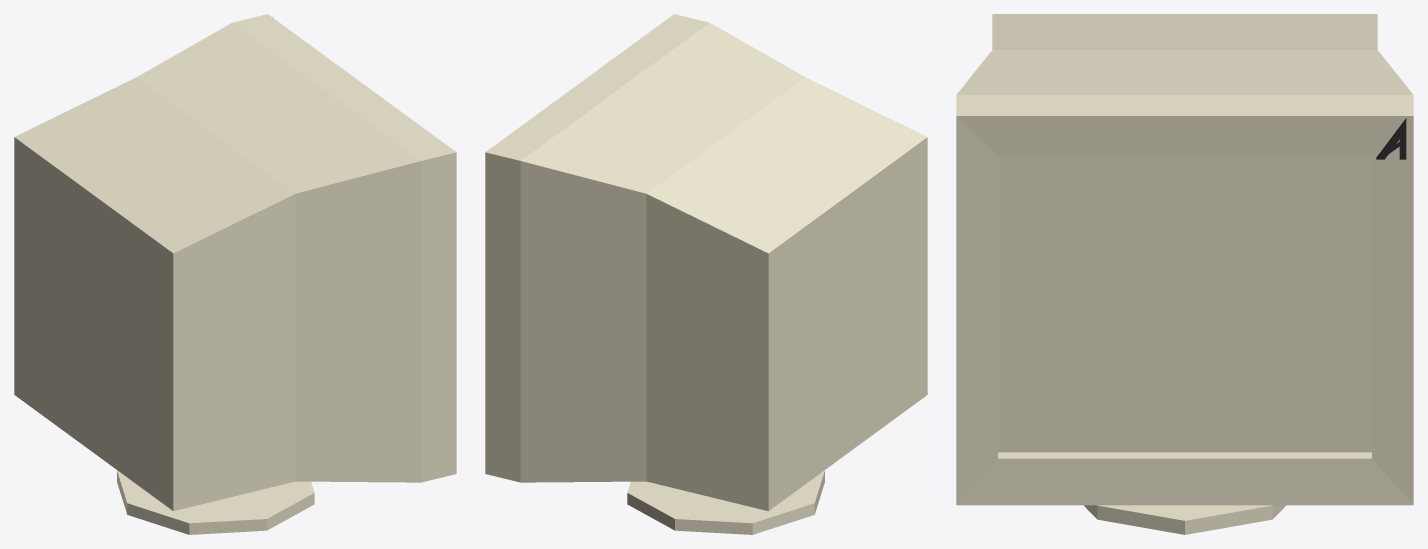
Rendered from monitor-CRT-1_1.fbx.
3 views of the same model, side by side, from view 1: azimuth 30°, elevation 25°; view 2: azimuth 150°, elevation 25°; view 3: azimuth 270°, elevation 25° (orthographic). The views are drawn at different scales.
Parts seen in each view (by area): view 1: Cube.001; view 2: Cube.001; view 3: Cube.001, Cube.002.
Part boxes in pixels (<box>): Cube.001: <box>14,14,456,534</box>; Cube.001: <box>485,14,927,534</box>; Cube.001: <box>956,14,1413,534</box>; Cube.002: <box>1376,118,1406,159</box>.
Size of the model in its own units: 306 by 404 by 369.
